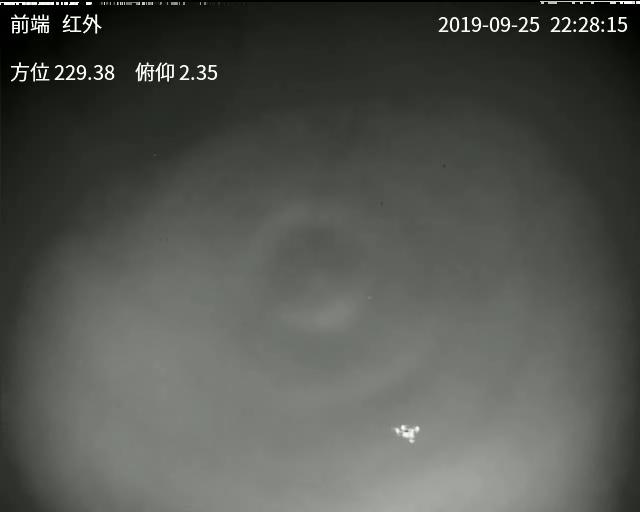uav: (389, 419, 423, 449)
